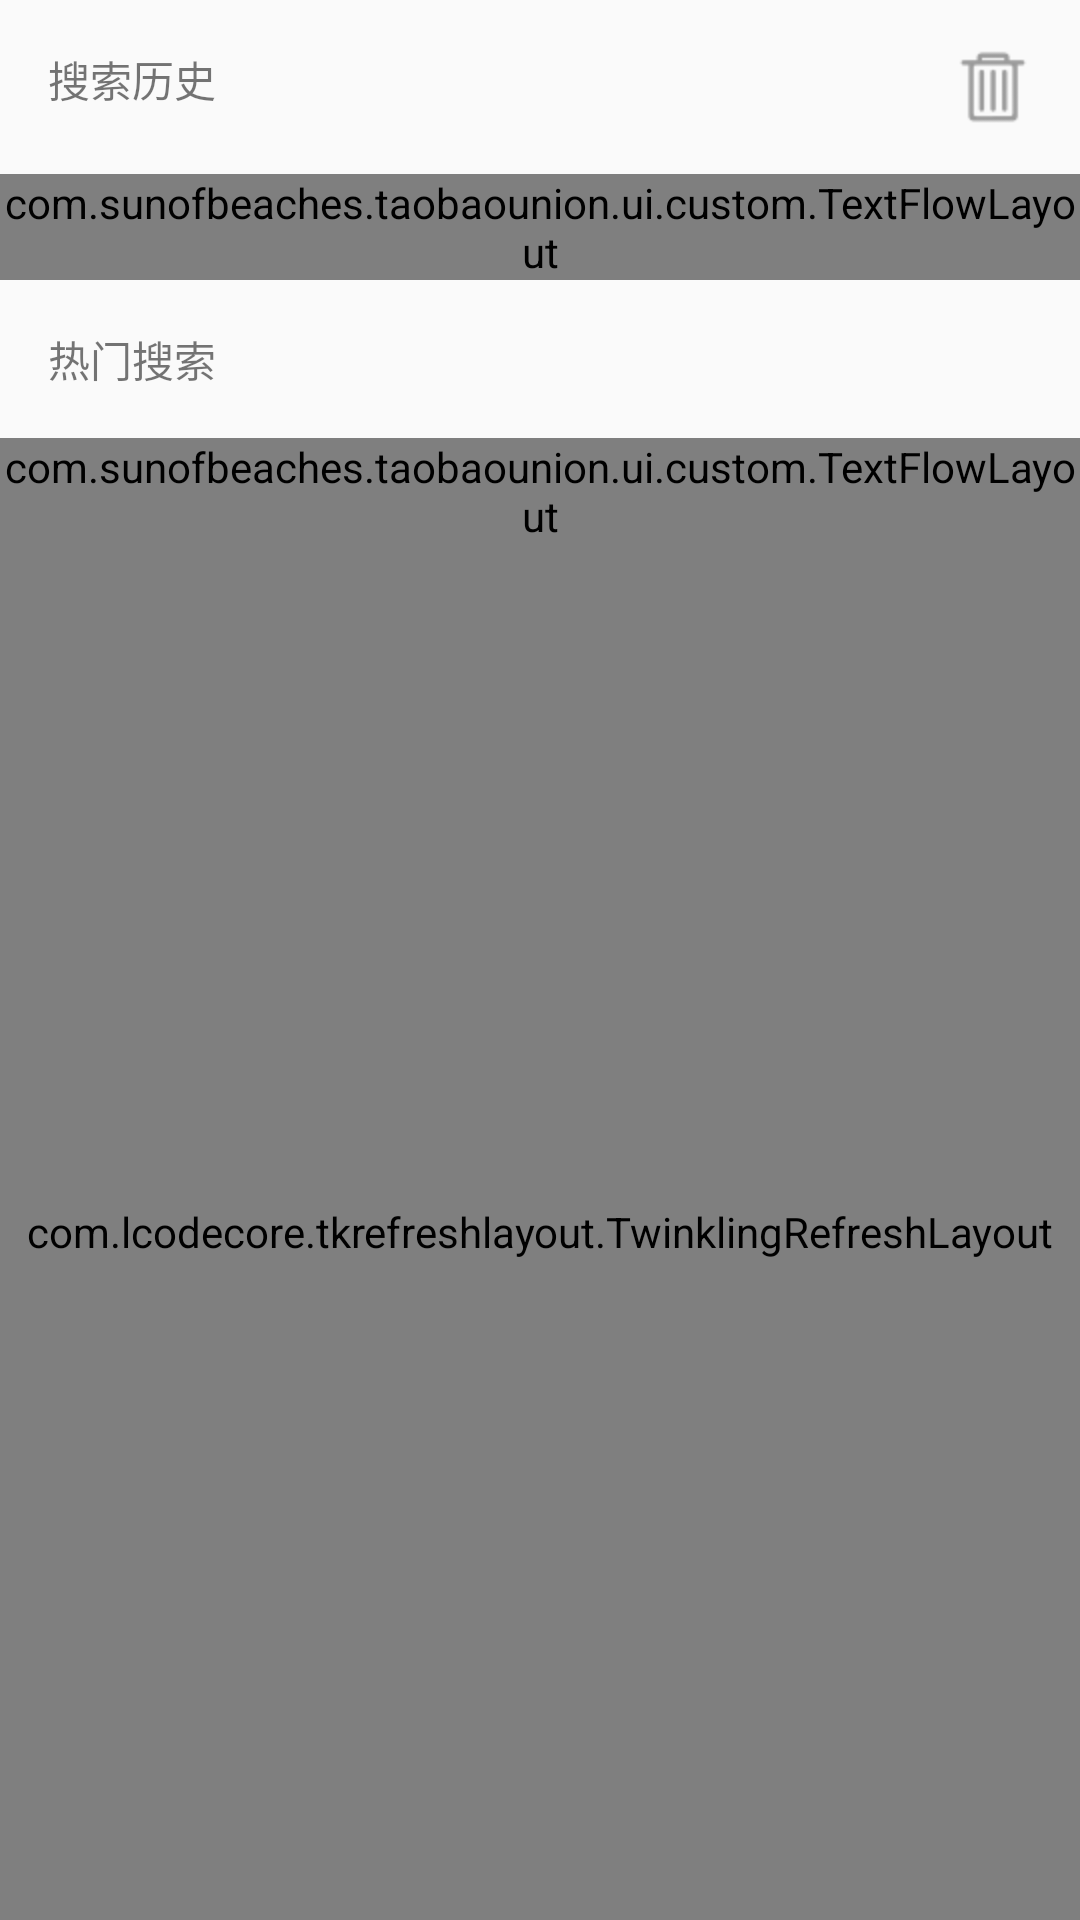

Named icons in this screenshot (1080 × 1920) and their centers, point (x, y):
delete: point (993, 87)
